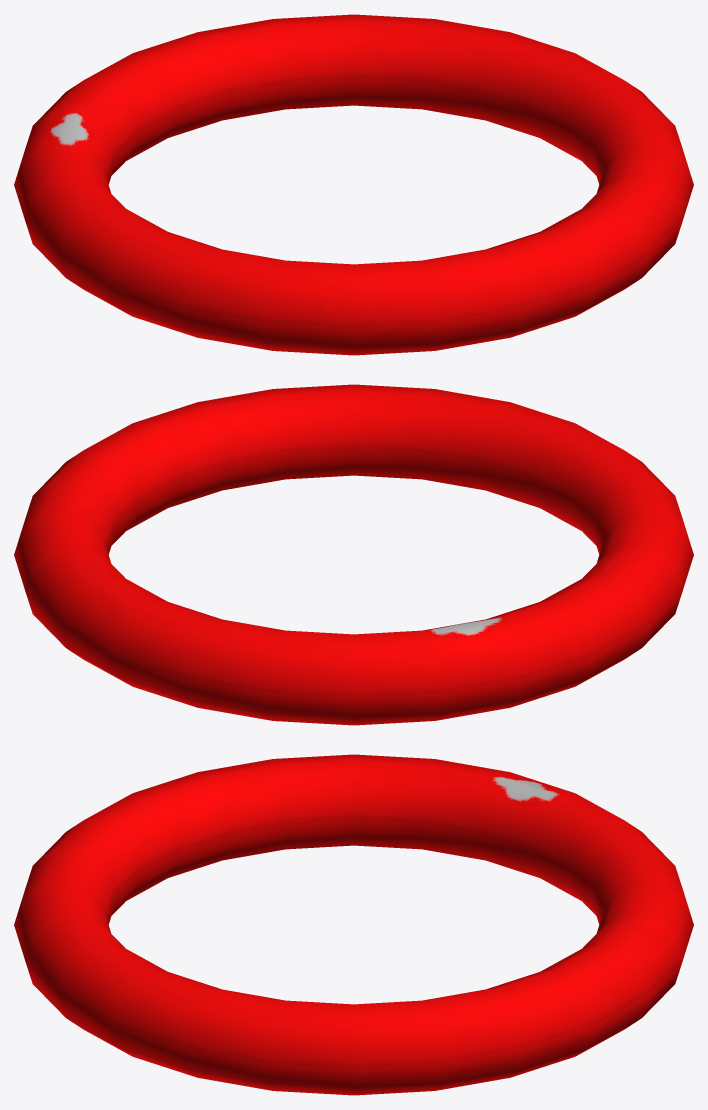
File: PoolTossGame01_2.FBX
The picture shows the model from 3 angles, top to bottom: view 1: azimuth 30°, elevation 25°; view 2: azimuth 150°, elevation 25°; view 3: azimuth 270°, elevation 25°; orthographic projection.
Parts seen in each view (by area): view 1: PoolTossGame01_2; view 2: PoolTossGame01_2; view 3: PoolTossGame01_2.
Boxes of the visible parts, bbox=[...] form: PoolTossGame01_2: bbox=[14, 14, 693, 355]; PoolTossGame01_2: bbox=[14, 384, 693, 725]; PoolTossGame01_2: bbox=[14, 754, 693, 1095].
Size of what is drawn, in the model's own units: 0.3667 by 0.0496 by 0.3667.
